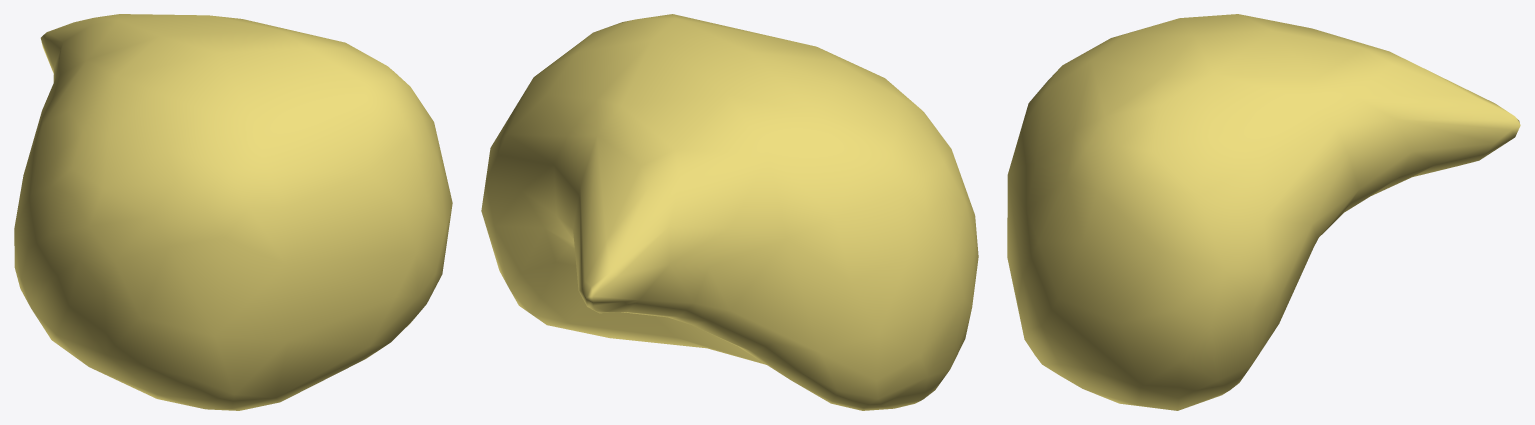
File: amygdaloid-body-r.glb
The picture shows the model from 3 angles, left to right: view 1: azimuth 30°, elevation 25°; view 2: azimuth 150°, elevation 25°; view 3: azimuth 270°, elevation 25°; orthographic projection. The views are drawn at different scales.
Visible parts, largest first — view 1: Amygdaloid body.r; view 2: Amygdaloid body.r; view 3: Amygdaloid body.r.
Part boxes in pixels (<box>): Amygdaloid body.r: <box>14,14,452,410</box>; Amygdaloid body.r: <box>481,14,978,410</box>; Amygdaloid body.r: <box>1007,14,1520,410</box>.
Size of the model in its own units: 0.0165 by 0.0124 by 0.0178.
